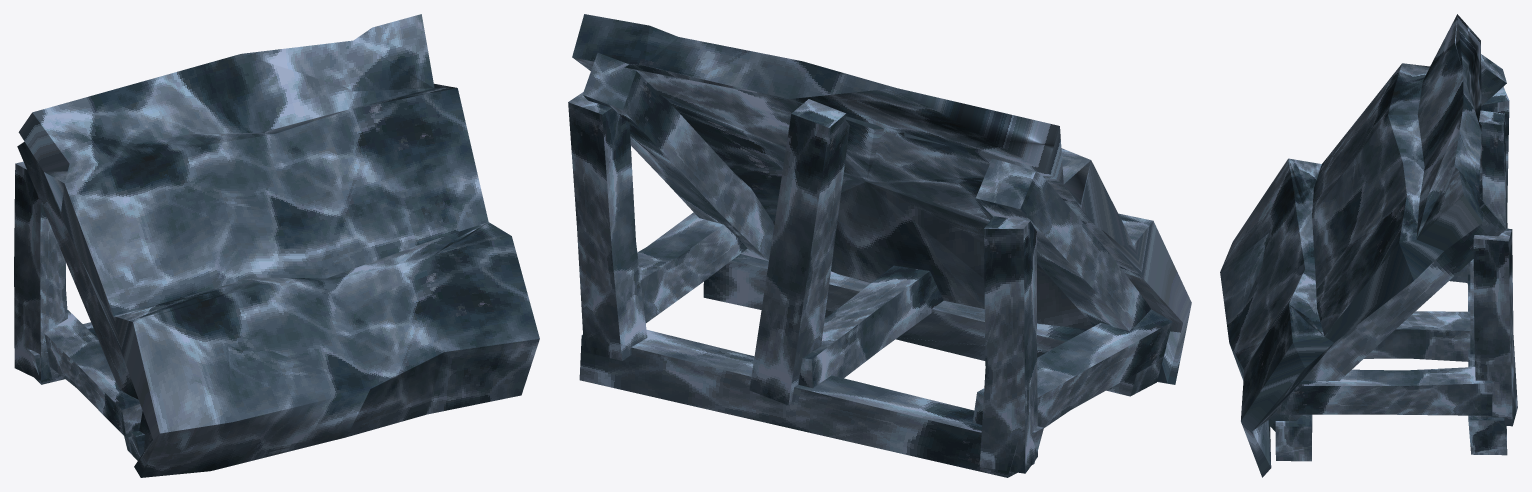
File: item_castle_awning_ice.glb
The picture shows the model from 3 angles, left to right: view 1: azimuth 30°, elevation 25°; view 2: azimuth 150°, elevation 25°; view 3: azimuth 270°, elevation 25°; orthographic projection. The views are drawn at different scales.
Visible parts, largest first — view 1: Awning; view 2: Awning; view 3: Awning.
Boxes of the visible parts, left/top/right/bottom form: Awning: left=14, top=14, right=539, bottom=477; Awning: left=568, top=14, right=1191, bottom=477; Awning: left=1220, top=14, right=1517, bottom=477.
Bounding box in the file's own units: 0.9546 × 0.7042 × 0.6551.
1 material, 1 textured.
